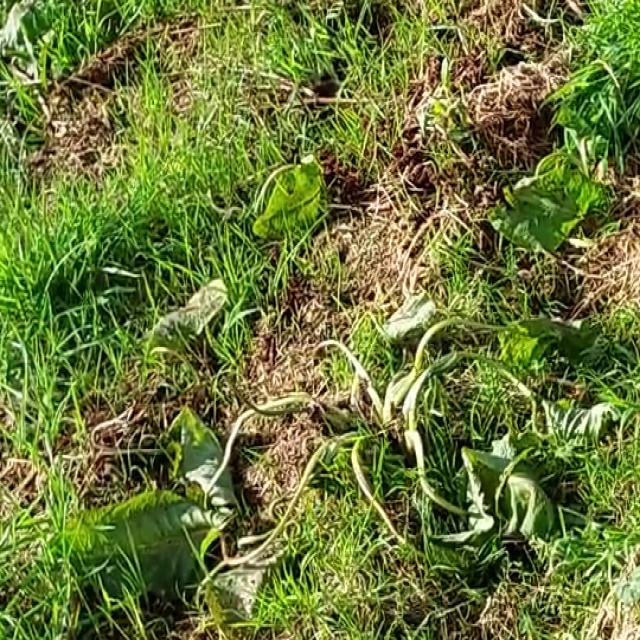organic waste: (95, 146, 640, 620)
